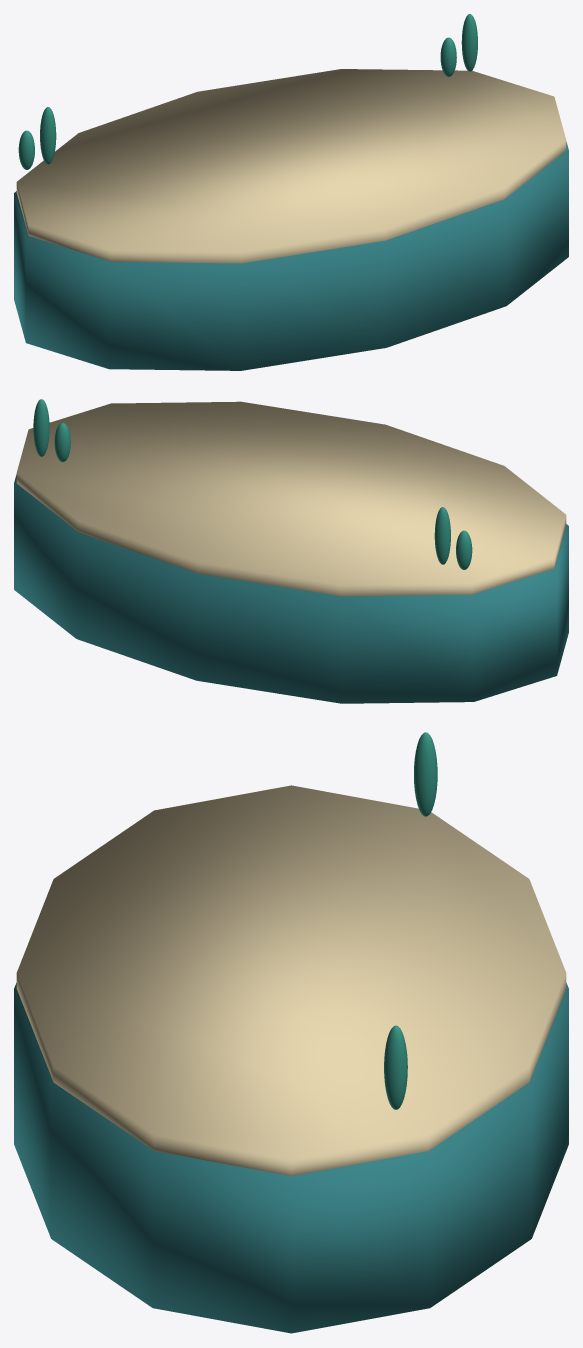
File: island.glb
3 views of the same model, one above another, from view 1: azimuth 30°, elevation 25°; view 2: azimuth 150°, elevation 25°; view 3: azimuth 270°, elevation 25° (orthographic). The views are drawn at different scales.
Visible parts, largest first — view 1: Sandy top, Rock foundation, Seaweed.001, Seaweed.003, Seaweed.002, Seaweed; view 2: Sandy top, Rock foundation, Seaweed.003, Seaweed.001, Seaweed.002, Seaweed; view 3: Sandy top, Rock foundation, Seaweed.001, Seaweed.003.
Boxes of the visible parts, x1=… form: Sandy top: x1=16, y1=69, x2=566, y2=263; Rock foundation: x1=14, y1=141, x2=568, y2=370; Seaweed.001: x1=40, y1=107, x2=56, y2=164; Seaweed.003: x1=461, y1=14, x2=477, y2=71; Seaweed.002: x1=440, y1=37, x2=456, y2=76; Seaweed: x1=18, y1=130, x2=34, y2=169; Sandy top: x1=16, y1=401, x2=566, y2=596; Rock foundation: x1=14, y1=474, x2=568, y2=703; Seaweed.003: x1=33, y1=399, x2=49, y2=456; Seaweed.001: x1=434, y1=507, x2=450, y2=564; Seaweed.002: x1=54, y1=422, x2=70, y2=462; Seaweed: x1=456, y1=530, x2=472, y2=569; Sandy top: x1=16, y1=785, x2=566, y2=1175; Rock foundation: x1=14, y1=983, x2=568, y2=1333; Seaweed.001: x1=414, y1=732, x2=437, y2=816; Seaweed.003: x1=384, y1=1025, x2=407, y2=1109.
Bounding box in the file's own units: 6 × 2 × 3.72.
